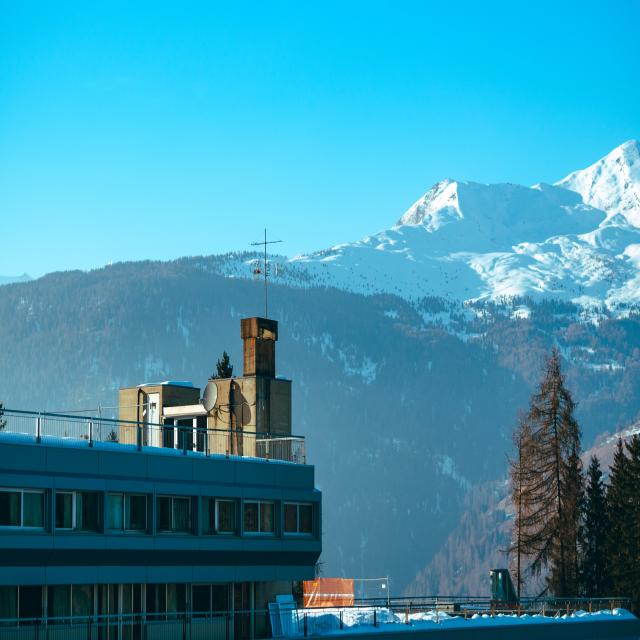building: (0, 315, 318, 640)
